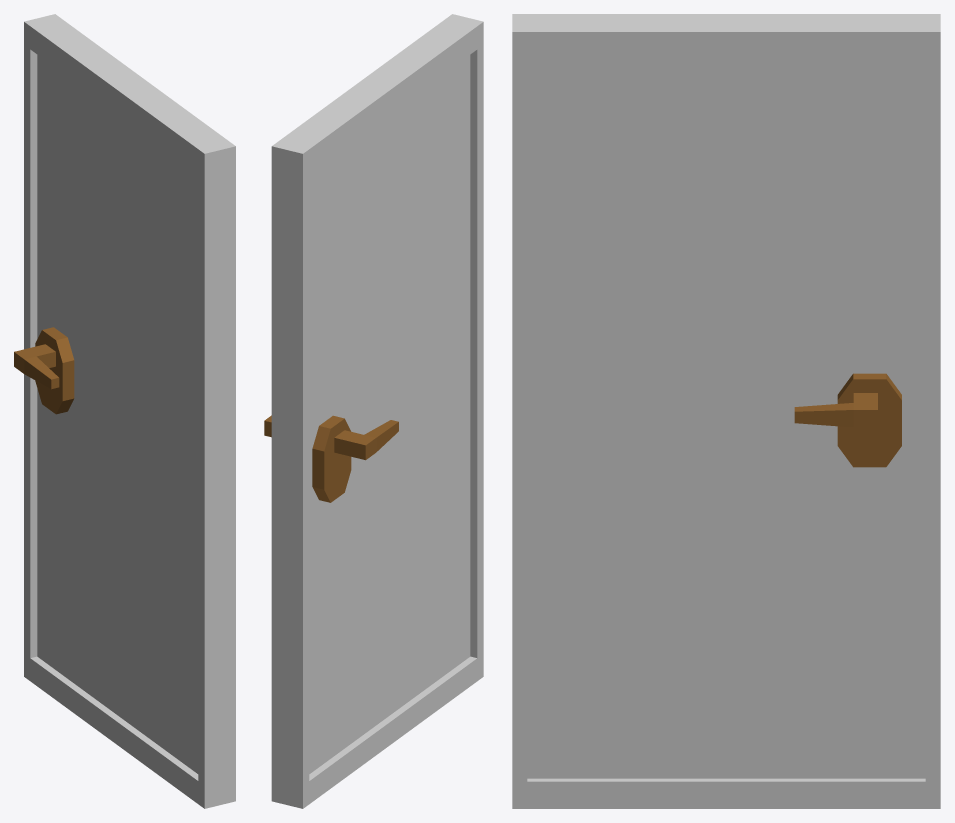
The model's file is FBX_Door.fbx.
3 views of the same model, side by side, from view 1: azimuth 30°, elevation 25°; view 2: azimuth 150°, elevation 25°; view 3: azimuth 270°, elevation 25° (orthographic). The views are drawn at different scales.
Visible parts, largest first — view 1: Cube.002; view 2: Cube.002; view 3: Cube.002.
Boxes of the visible parts, x1=… form: Cube.002: x1=14, y1=14, x2=235, y2=808; Cube.002: x1=264, y1=14, x2=483, y2=808; Cube.002: x1=512, y1=14, x2=940, y2=808.
Bounding box in the file's own units: 32.45 × 200 × 100.
